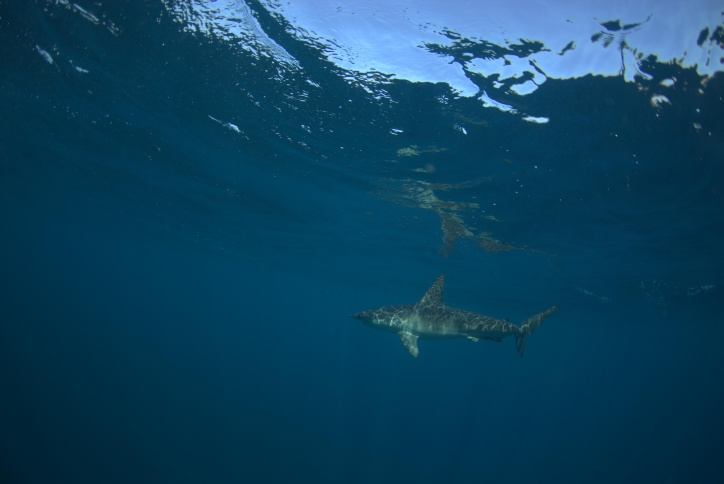Hammer: (337, 264, 594, 389)
